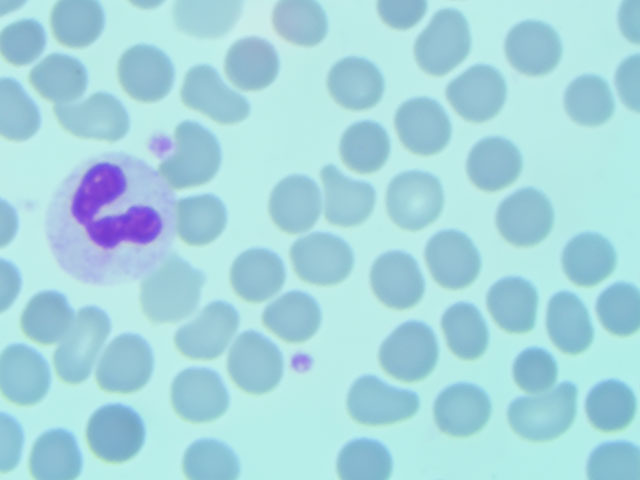Platelets: (287, 347, 319, 377), (147, 130, 173, 156)
RBC: (52, 305, 111, 383), (1, 331, 59, 409), (179, 63, 253, 124), (314, 167, 388, 228), (257, 170, 331, 231), (226, 240, 300, 301), (136, 256, 210, 317), (170, 298, 244, 359), (222, 333, 296, 394), (166, 359, 240, 420), (93, 334, 167, 395), (18, 280, 80, 340), (414, 11, 475, 71), (448, 64, 509, 124), (394, 93, 455, 153), (389, 169, 450, 229), (463, 132, 524, 192), (498, 186, 559, 246), (423, 227, 484, 287), (368, 247, 429, 307), (296, 227, 357, 287), (383, 316, 444, 376), (350, 369, 411, 429), (431, 379, 492, 439), (436, 296, 497, 356), (482, 273, 543, 333), (540, 292, 601, 352), (558, 230, 619, 290), (502, 336, 563, 396), (516, 380, 577, 440), (578, 371, 639, 431), (503, 16, 564, 76), (184, 420, 245, 480), (335, 420, 396, 480), (443, 87, 504, 147), (223, 31, 286, 89), (332, 119, 397, 175), (271, 1, 340, 50), (31, 423, 90, 480), (90, 403, 149, 460), (174, 126, 229, 186), (561, 73, 620, 128), (176, 190, 230, 249), (328, 53, 384, 109), (32, 52, 89, 103), (68, 86, 125, 137), (120, 47, 177, 98), (1, 14, 57, 65), (50, 1, 107, 51), (591, 280, 640, 337), (1, 79, 44, 139)
WBC: (48, 154, 173, 273)
